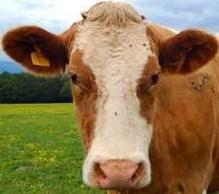muzzles: (77, 152, 154, 190)
